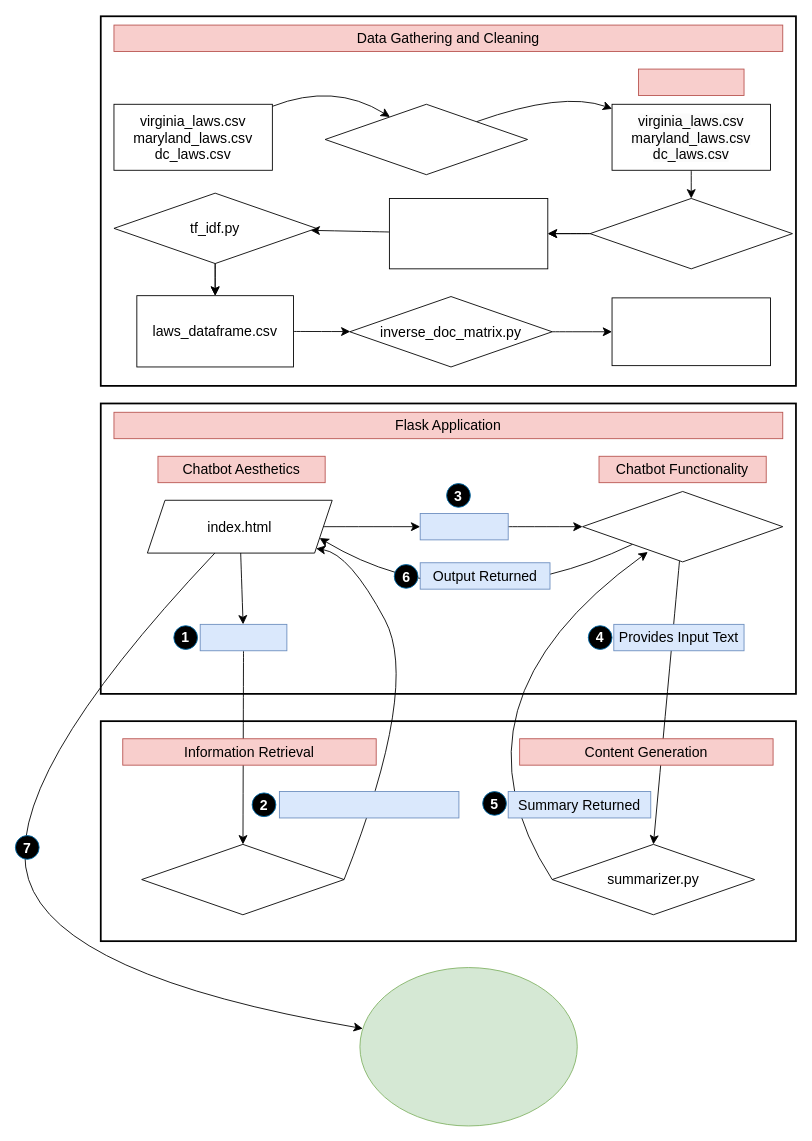
Some shapes in this 812 by 1141 pixel diagram are drawn without their labels. The centre of each missing label's shape, as x and y in pixels:
'loading...': the point at 463,526
app.py: the point at 682,526
clean_data.csv: the point at 468,233
information_retrieval.py: the point at 242,879
inverse_doc_matrix.csv: the point at 690,331
law_cleaning.py: the point at 690,233
Most Similar Law Returned: the point at 369,804
RESPONSE: the point at 468,1046
selenium.ipynb: the point at 426,139
UPDATED: the point at 691,81
User Input: the point at 243,637
